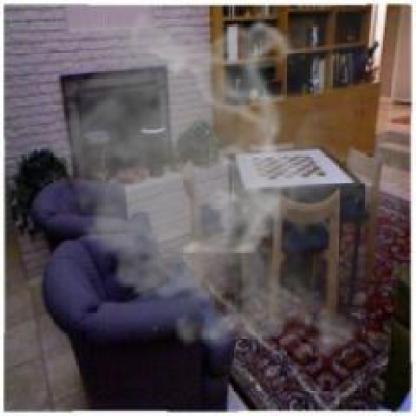Smoke: (34, 11, 399, 370)
